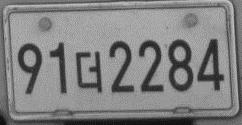1: (46, 41, 70, 94)
2: (137, 39, 166, 94), (106, 39, 134, 94)
4: (196, 37, 225, 91)
8: (167, 39, 194, 91)
9: (16, 41, 43, 95)
더: (74, 50, 104, 93)
